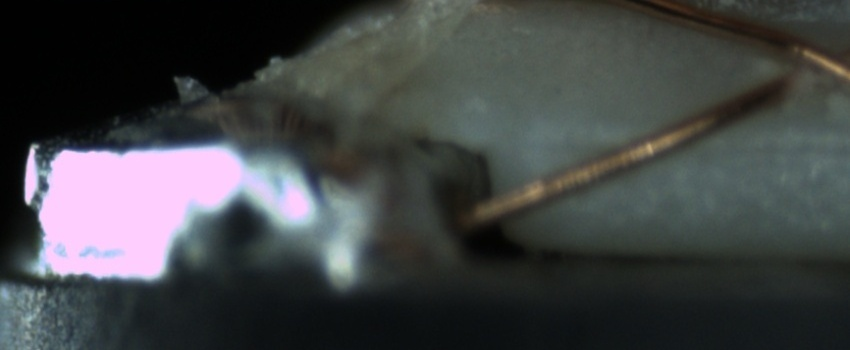DL: (529, 113, 846, 177)
